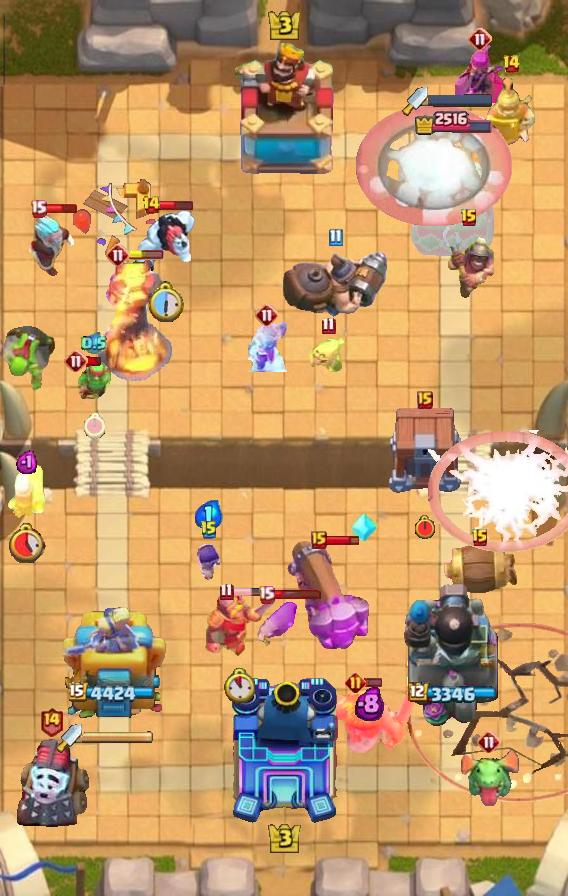bandit: (440, 224, 498, 302)
bar: (60, 607, 168, 731), (409, 138, 497, 256)
bar-level: (0, 323, 58, 395)
barbarian-evolution: (428, 430, 568, 552)
bat-evolution: (308, 338, 348, 372)
bomb: (386, 408, 464, 494)
bomber-evolution: (246, 322, 288, 372)
earthquake: (485, 78, 537, 148)
electro-dragon: (96, 256, 174, 384)
electro-spirit: (355, 686, 384, 721), (195, 500, 223, 530), (81, 333, 107, 356), (16, 449, 37, 475)
electro-wizard: (457, 747, 521, 807)
elixir: (6, 522, 46, 563), (146, 281, 184, 323), (225, 669, 255, 703), (83, 413, 105, 438), (414, 516, 436, 541)
emote: (272, 588, 322, 599), (325, 534, 360, 547), (158, 199, 193, 211), (44, 203, 78, 214), (128, 250, 164, 260), (231, 587, 267, 597), (365, 677, 384, 688), (85, 357, 103, 368)
evolution-symbol: (455, 41, 505, 103)
firecracker: (203, 593, 276, 656)
furnace: (283, 539, 373, 653)
giant: (251, 600, 303, 650)
giant-snowball: (74, 359, 114, 399)
goblin: (196, 542, 222, 580)
goblin-hut: (323, 687, 415, 753)
golem: (10, 737, 92, 829)
guard: (408, 623, 568, 802)
king-tower: (228, 676, 340, 826), (228, 41, 340, 181)
king-tower-bar: (82, 731, 154, 745), (428, 93, 492, 106)
mortar: (21, 213, 83, 279)
pad_2: (350, 510, 378, 544)
rage: (133, 210, 197, 276)
selected: (413, 109, 493, 136), (409, 683, 500, 706), (69, 683, 159, 706)
text: (39, 707, 64, 738), (468, 27, 492, 51), (106, 243, 130, 267), (255, 303, 279, 327), (64, 349, 88, 373), (477, 730, 501, 754), (346, 672, 367, 693), (502, 54, 521, 74), (143, 195, 162, 215), (460, 208, 478, 228), (200, 520, 218, 540), (471, 528, 489, 548), (257, 584, 275, 603), (29, 199, 46, 217), (417, 391, 433, 409), (311, 531, 327, 549), (218, 582, 233, 601), (328, 229, 343, 247), (321, 316, 335, 335)
the-log: (440, 540, 520, 600)
tombstone: (5, 462, 47, 520)
tower-bar: (402, 579, 504, 731)
wall-breaker: (356, 105, 513, 228)
wizard: (279, 249, 391, 319)
